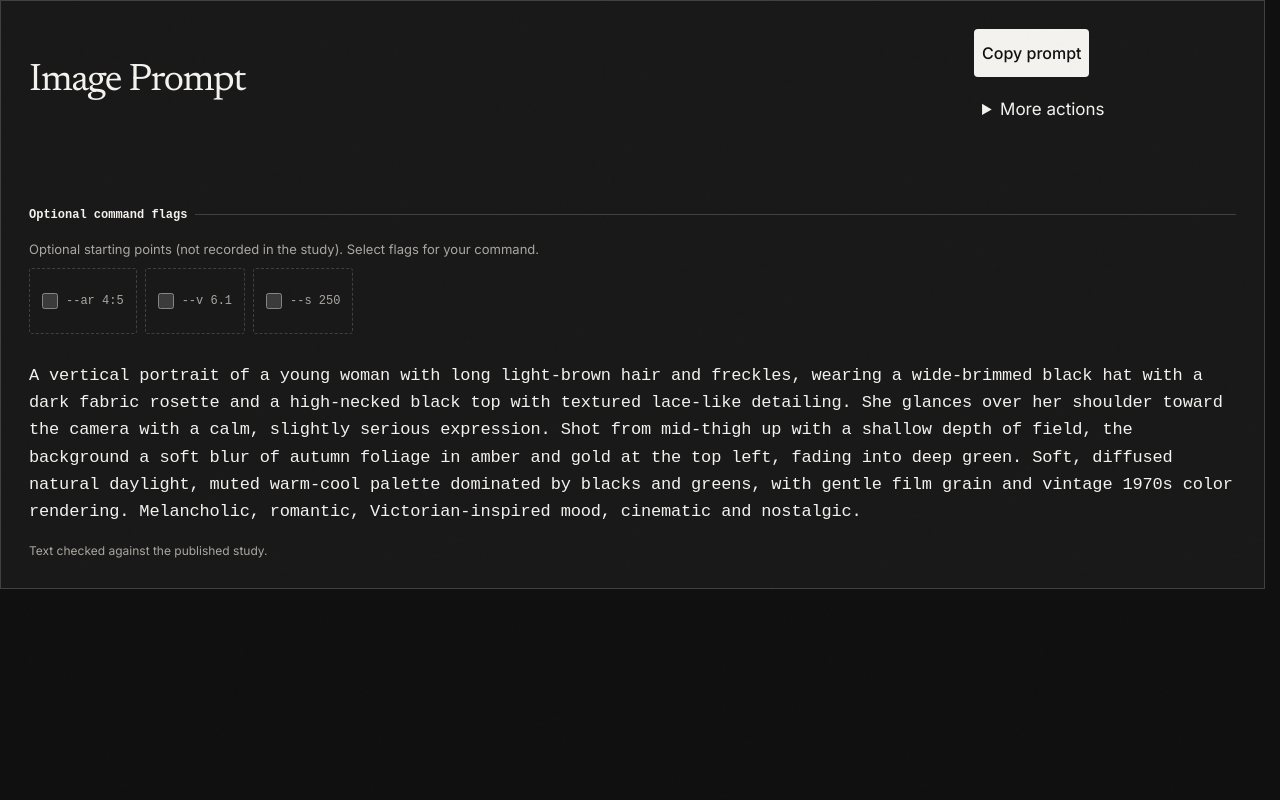
Scenario: keeps a newer export failure when an older prompt copy completes
Click the button "Copy prompt".
click(1032, 53)  # box [974,29,1089,77]
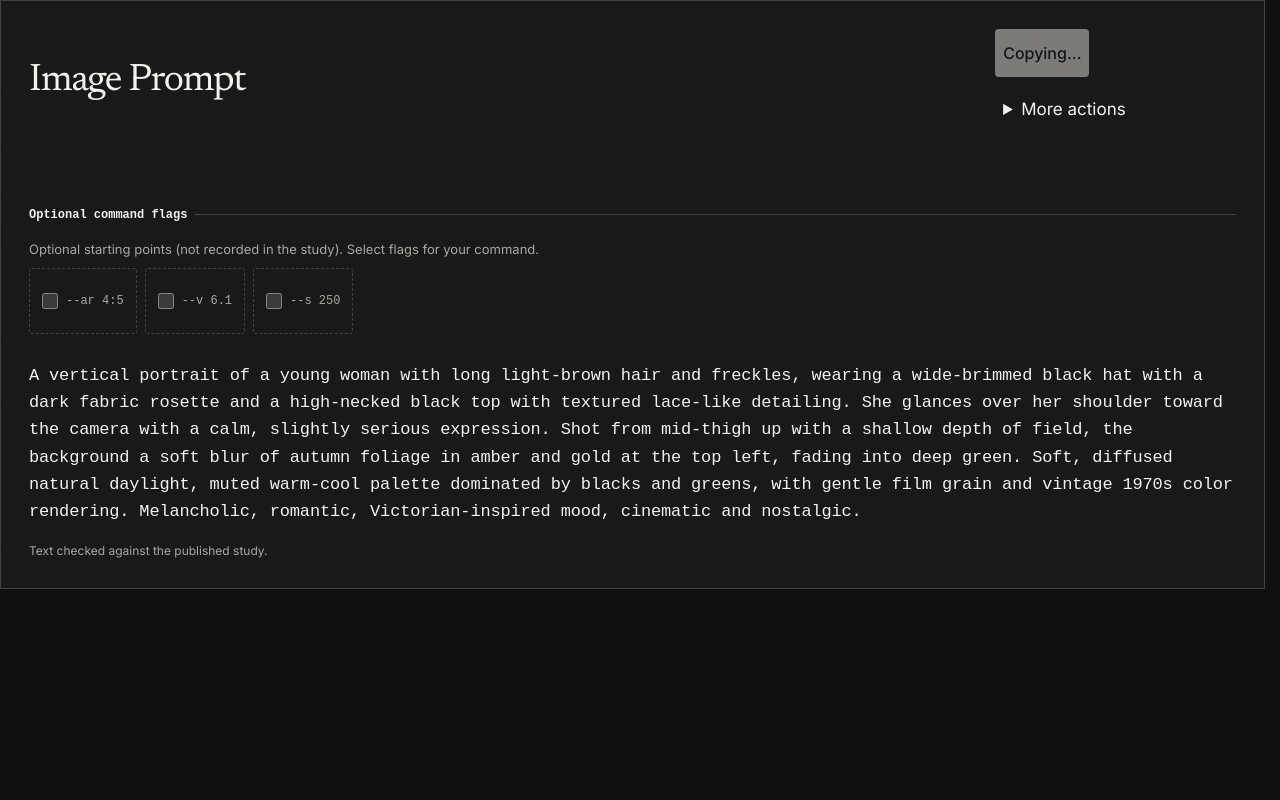
Click the heading "More actions".
click(1073, 109)  # box [1021,99,1126,119]
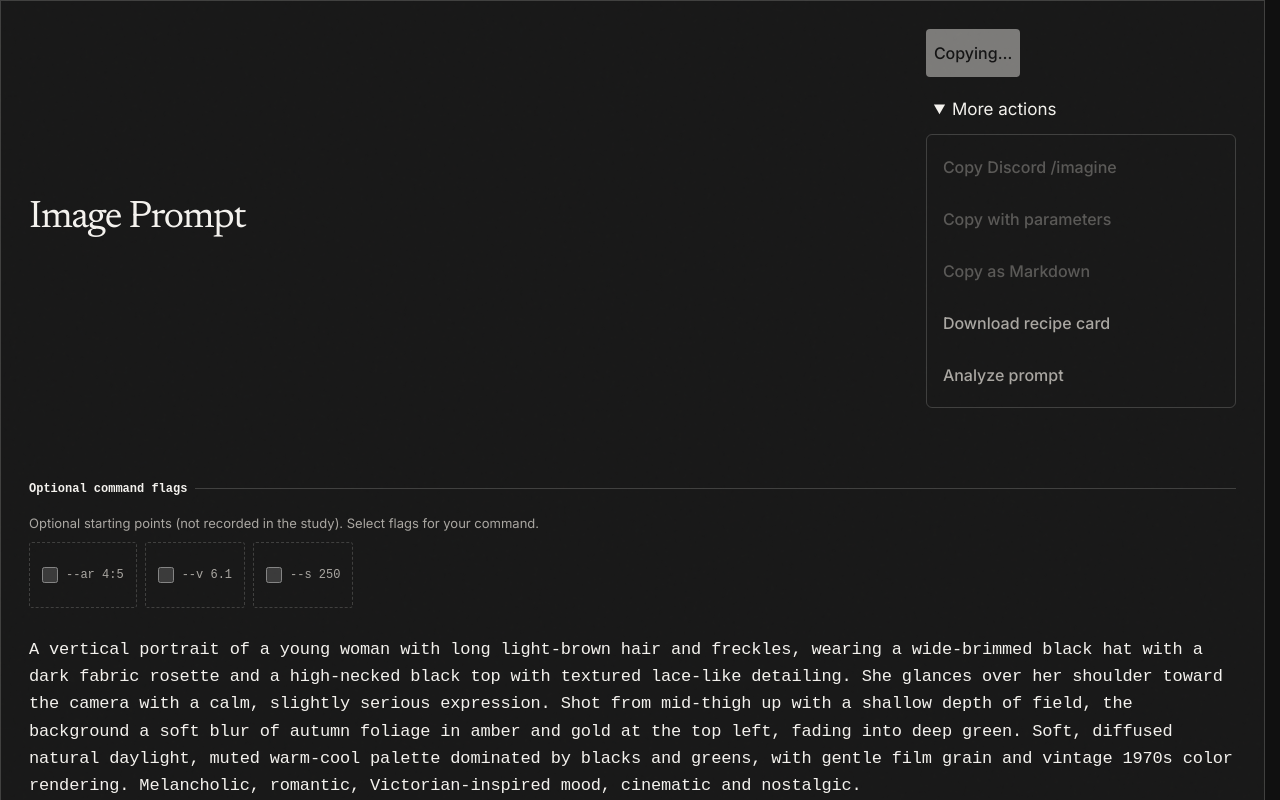
Click the button "Download recipe card".
click(1081, 323)  # box [935,299,1227,347]
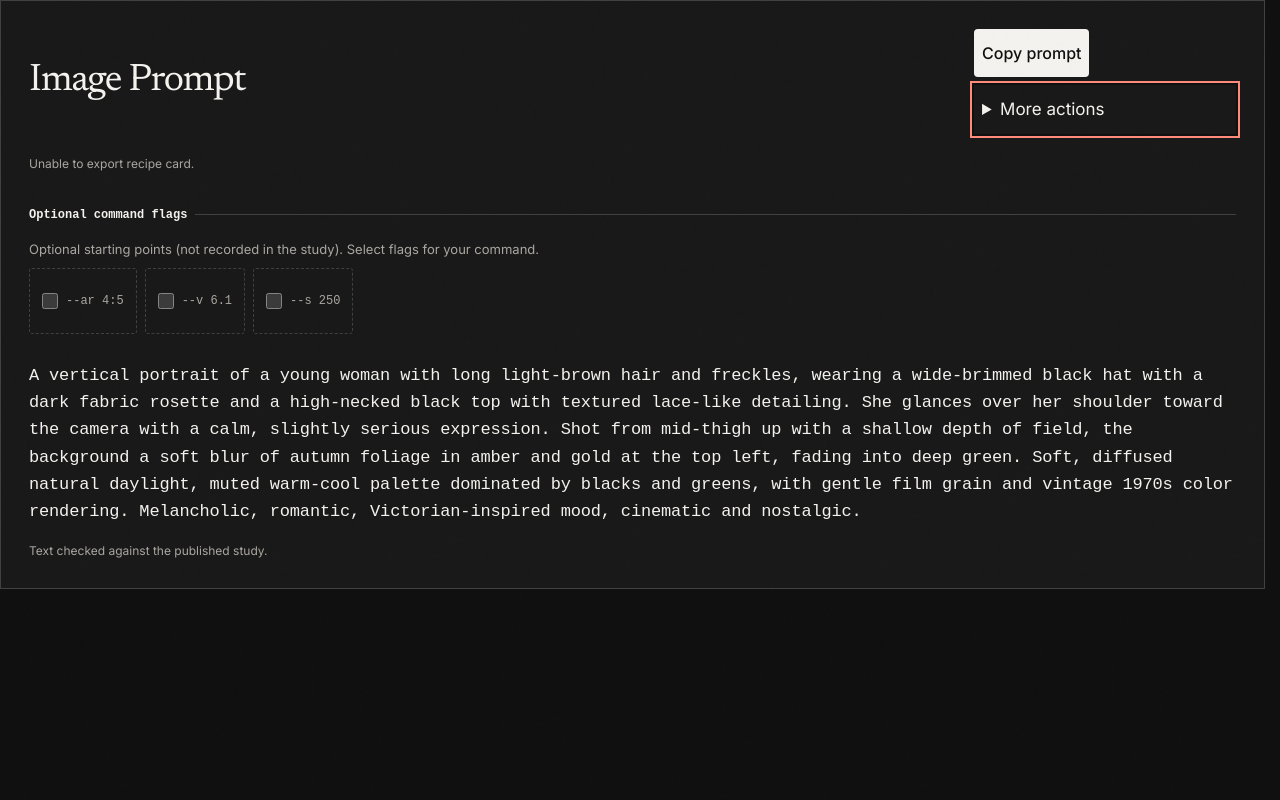
Check: the message reads "Unable to export recipe card.", box [29,156,194,171]
